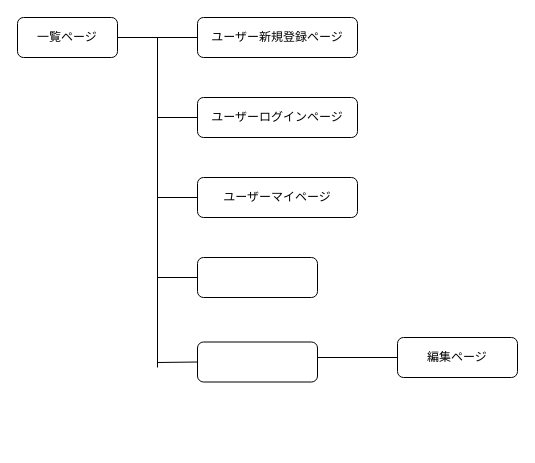
The diagram is 535 pixels wide and 463 high, and some of its shapes have lost their labels. The shapes that lost their labels are listed below. From the top down, each one's centre as x and y in pixels, then its label:
At [257,277]: "投稿ページ".
At [257,361]: "詳細ページ".
